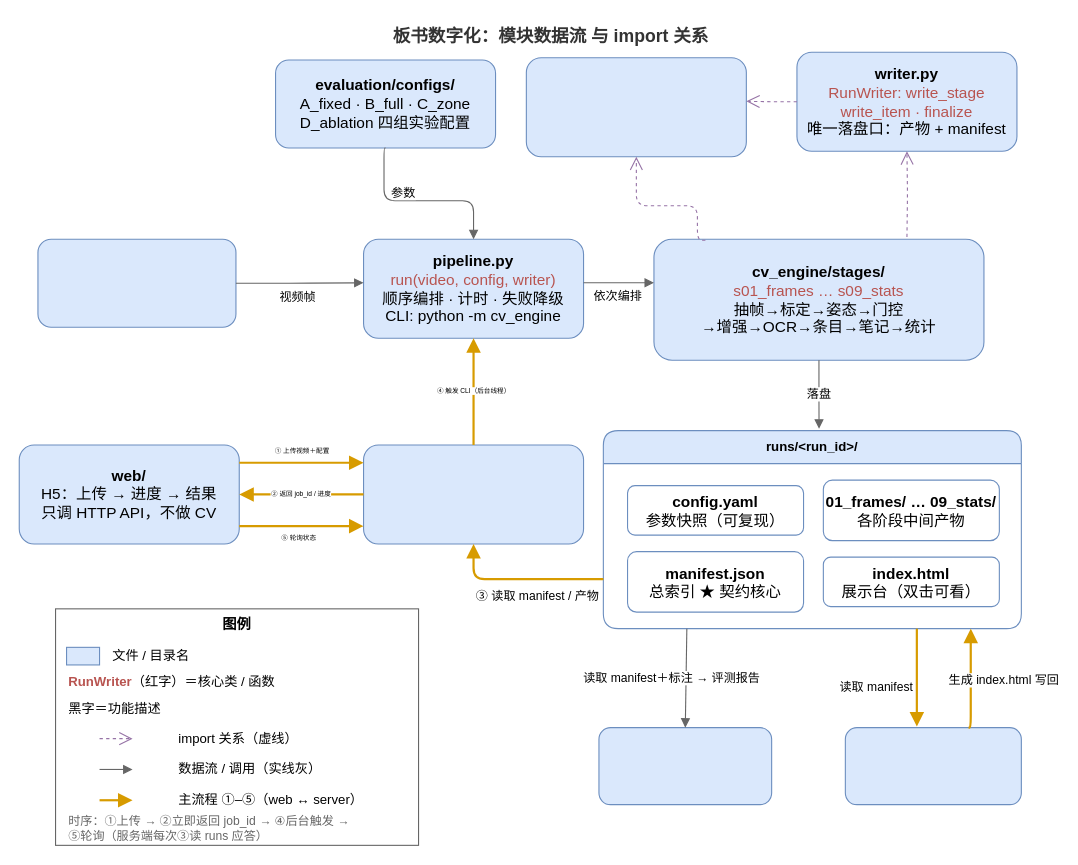
Image size: 1078x865. Some labels were removed from this diagram. Here are the shapes that lost their labels. From the top down, the centre of each, then its label:
At (x=635, y=107): "contracts.py OcrBox · BoardItem StageResult · RunManifest 唯一数据契约（冻结后只加字段）".
At (x=136, y=282): "data/videos/ 授权课堂视频素材 （CLI 入口使用）".
At (x=473, y=494): "server/ runner.py 后台线程 FastAPI 薄壳：jobs 表 + 文件下发".
At (x=685, y=766): "evaluation/ evaluate.py 召回 / CER / OCR 次数 / 耗时".
At (x=932, y=766): "workbench/ build.py 只读 manifest → 单文件展示台".
